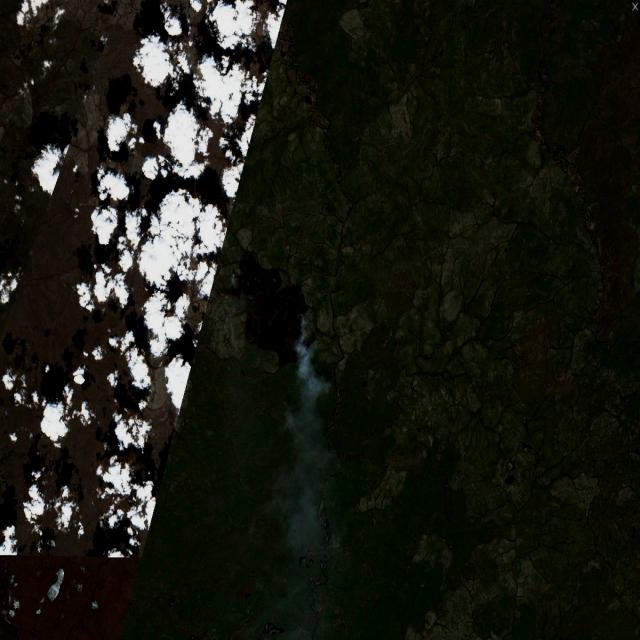fire: (226, 266, 310, 357)
